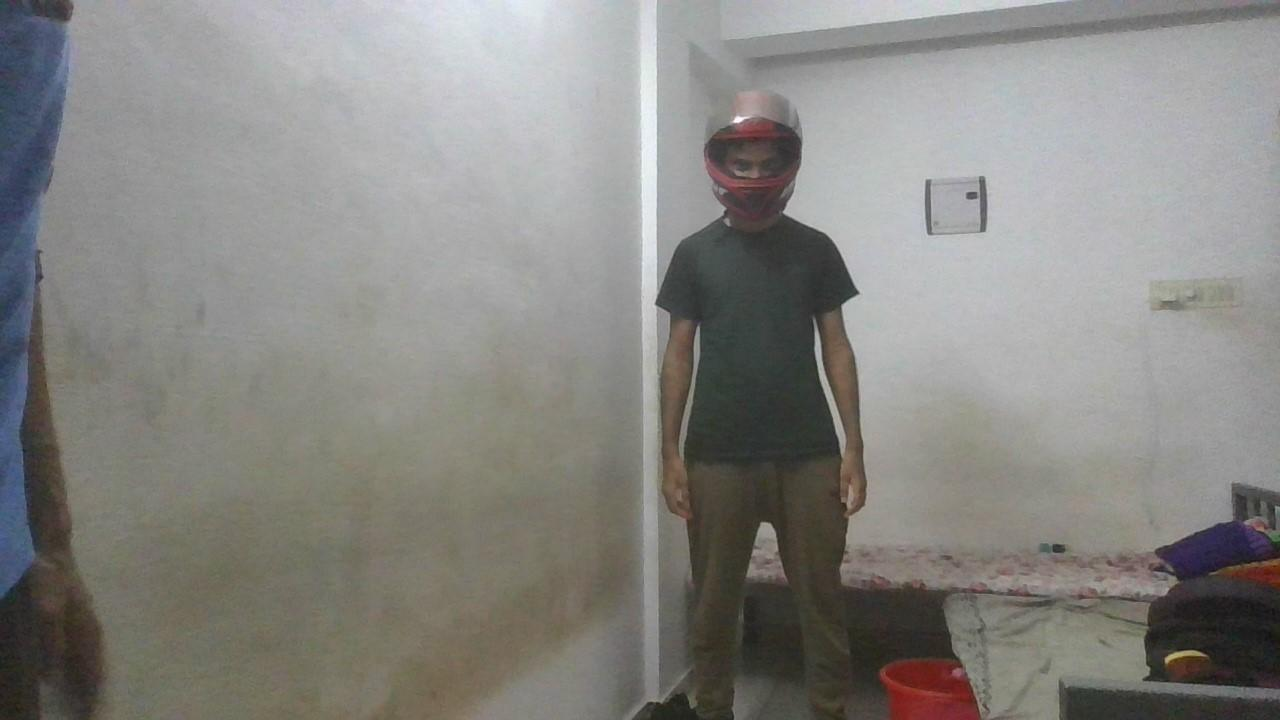helmet: (702, 89, 804, 224)
